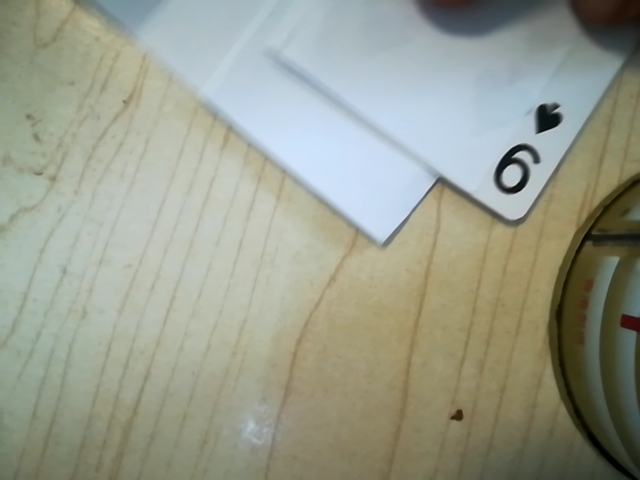ht 9: (477, 87, 581, 212)
